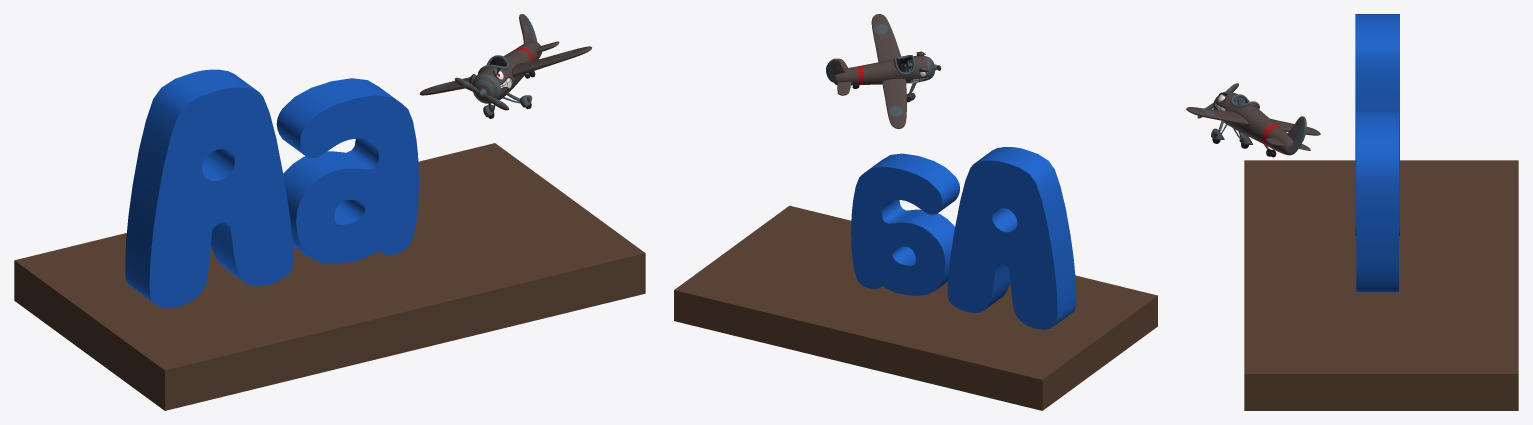
File: Aa_avion_anim.fbx
3 views of the same model, side by side, from view 1: azimuth 30°, elevation 25°; view 2: azimuth 150°, elevation 25°; view 3: azimuth 270°, elevation 25° (orthographic). The views are drawn at different scales.
Parts seen in each view (by area): view 1: root.001, node_id35, node_id42, node_id83; view 2: root.001, node_id35, node_id42, node_id83; view 3: root.001, node_id42, node_id35, node_id83.
Part boxes in pixels (<box>): root.001: <box>14,143,645,410</box>; node_id35: <box>125,69,293,308</box>; node_id42: <box>276,78,418,264</box>; node_id83: <box>419,14,591,118</box>; root.001: <box>674,205,1157,410</box>; node_id35: <box>947,147,1076,329</box>; node_id42: <box>851,153,959,295</box>; node_id83: <box>826,14,941,128</box>; root.001: <box>1244,160,1518,410</box>; node_id42: <box>1356,110,1398,292</box>; node_id35: <box>1355,14,1399,236</box>; node_id83: <box>1186,83,1320,157</box>.
Size of the model in its own units: 2834 by 1629 by 1863.
